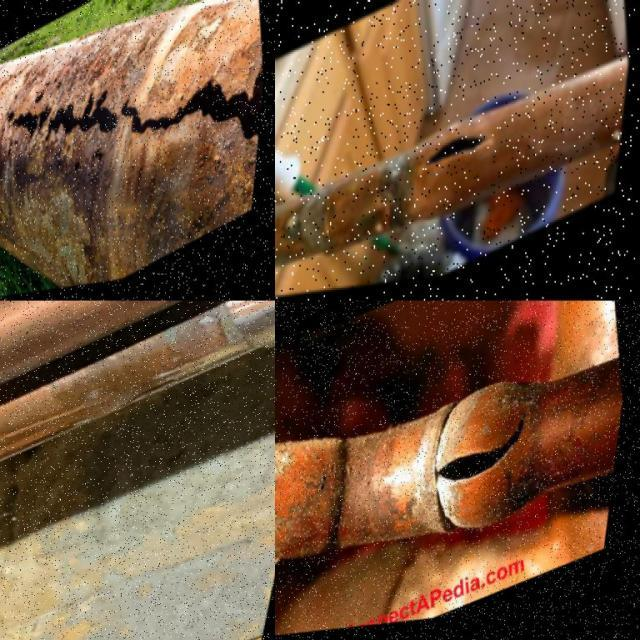hole: (120, 81, 181, 167), (180, 75, 239, 161), (76, 76, 130, 161), (229, 83, 267, 172), (45, 100, 87, 160), (18, 103, 46, 148), (6, 134, 28, 167), (38, 106, 58, 136), (33, 86, 52, 114), (5, 103, 23, 132), (94, 149, 110, 173), (74, 157, 88, 179), (55, 80, 67, 96), (1, 84, 7, 109), (15, 92, 24, 107), (54, 76, 62, 89), (3, 125, 11, 137), (47, 79, 54, 92), (1, 116, 3, 134)
rupture: (434, 418, 542, 503), (420, 120, 504, 191)
